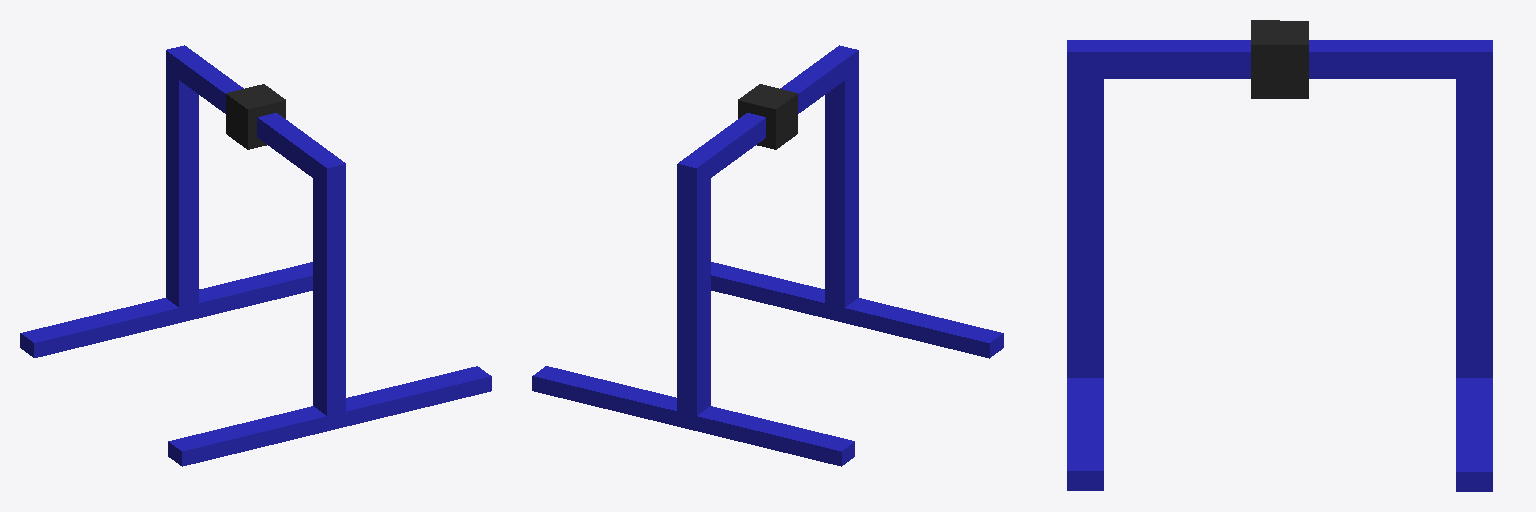
robot.urdf — cart_pole:
<?xml version="1.0" ?>
<!-- =================================================================================== -->
<!-- |    This document was autogenerated by xacro from cart_pole.urdf.xacro           | -->
<!-- |    EDITING THIS FILE BY HAND IS NOT RECOMMENDED                                 | -->
<!-- =================================================================================== -->
<robot name="cart_pole">
  <!-- =============== Link & xJoint =============== -->
  <!-- Base -->
  <link name="world"/>
  <joint name="crane_to_world" type="fixed">
    <parent link="world"/>
    <child link="base_footprint"/>
    <origin rpy="0.0 0.0 1.57" xyz="1.0 0.0 -0.2"/>
  </joint>
  <link name="base_footprint"/>
  <joint name="base_link_joint" type="fixed">
    <origin xyz="0 0 0"/>
    <parent link="base_footprint"/>
    <child link="base_link"/>
  </joint>
  <link name="base_link">
    <visual>
      <geometry>
        <mesh filename="../meshes/STL/base/structure.obj" scale="0.001 0.001 0.001"/>
      </geometry>
      <material name="blue">
        <color rgba="0.2 0.2 0.8 1.0"/>
        <!-- Adjust RGBA values for your desired shade of blue -->
      </material>
    </visual>
    <!-- <collision>
      <geometry>
        <mesh filename="../meshes/STL/base/structure.obj" scale="0.001 0.001 0.001"/>
      </geometry>
    </collision>-->
    <inertial>
      <origin xyz="0 0 1.02"/>
      <mass value="10"/>
      <inertia ixx="1.34" ixy="0" ixz="0" iyy="1.28" iyz="0" izz="1.6"/>
    </inertial> 
  </link>
  <joint name="cart_joint" type="fixed">
    <origin rpy="0 0 1.57" xyz="0 0 2.5"/>
    <parent link="base_link"/>
    <child link="cart_link"/>
    <limit effort="500" lower="-0.9" upper="0.9" velocity="2"/>
    <axis xyz="0 1 0"/>
  </joint>
  <link name="cart_link">
    <visual>
      <geometry>
        <mesh filename="../meshes/STL/cart/mycart.obj" scale="0.001 0.001 0.001"/>
      </geometry>
      <material name="dark_grey">
        <color rgba="0.2 0.2 0.2 1.0"/>
        <!-- Dark grey color -->
      </material>
    </visual>
    <collision>
      <geometry>
        <box size="0.4 0.4 0.4"/>  <!-- Specify the size of the box (x, y, z) <mesh filename="../meshes/STL/cart/mycart.obj" scale="0.001 0.001 0.001"/> -->
      </geometry>

    </collision>
    <inertial>
      <origin xyz="0 0 0"/>
      <mass value="5"/>
      <inertia ixx="1.09" ixy="0" ixz="0" iyy="1.32" iyz="0" izz="1.09"/>
    </inertial>
  </link>
  <transmission name="cart_trans">
    <type>transmission_interface/SimpleTransmission</type>
    <joint name="cart_joint">
      <hardwareInterface>hardware_interface/EffortJointInterface</hardwareInterface>
    </joint>
    <actuator name="cart_motor">
      <hardwareInterface>hardware_interface/EffortJointInterface</hardwareInterface>
      <mechanicalReduction>1</mechanicalReduction>
    </actuator>
  </transmission>
  <!-- =============== Gazebo =============== -->
  <gazebo>
    <plugin filename="libgazebo_ros_control.so" name="gazebo_ros_control"/>
  </gazebo>
  <gazebo reference="base_link">
    <selfCollide>false</selfCollide>
    <mu1 value="0.05"/>
    <mu2 value="0.05"/>
  </gazebo>
  <gazebo reference="cart_link">
    <selfCollide>false</selfCollide>
    <mu1 value="1.2"/>
    <mu2 value="1.2"/>
  </gazebo>
</robot>

--- What the picture shows (computed from the rendered views, not written in the file) ---
The picture shows the robot from 3 angles, left to right: view 1: azimuth 30°, elevation 25°; view 2: azimuth 150°, elevation 25°; view 3: azimuth 270°, elevation 25°; orthographic projection.
Robot: cart_pole — 4 links, 3 joints (3 fixed); root link world; default pose: every joint at zero.
Visible links, largest first — view 1: base_link, cart_link; view 2: base_link, cart_link; view 3: base_link, cart_link.
Link boxes in pixels (<box>): base_link: <box>20,45,491,466</box>; cart_link: <box>226,84,285,149</box>; base_link: <box>532,45,1003,466</box>; cart_link: <box>738,84,797,149</box>; base_link: <box>1067,40,1492,491</box>; cart_link: <box>1251,20,1308,98</box>.
Bounding box of the posed robot: 3.2 × 2.9 × 2.7 m (x, y, z).
Meshes: 2 distinct files referenced, 2 mesh visuals loaded (2 OBJ).